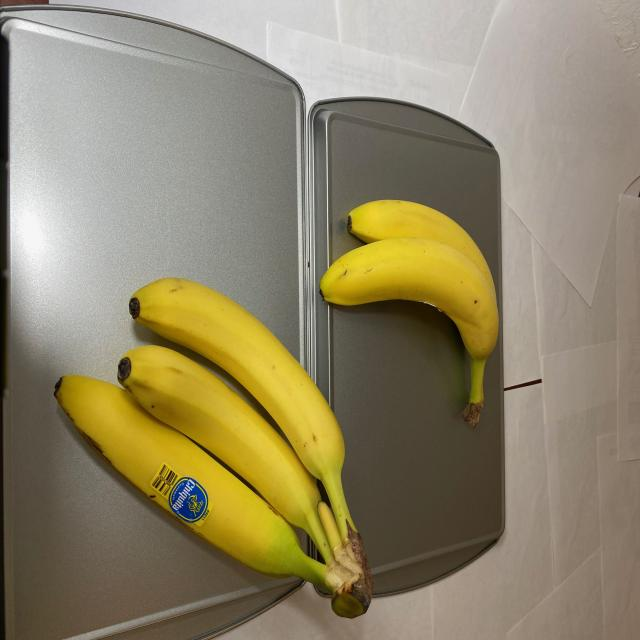banana: (47, 271, 374, 623), (321, 189, 500, 434)
